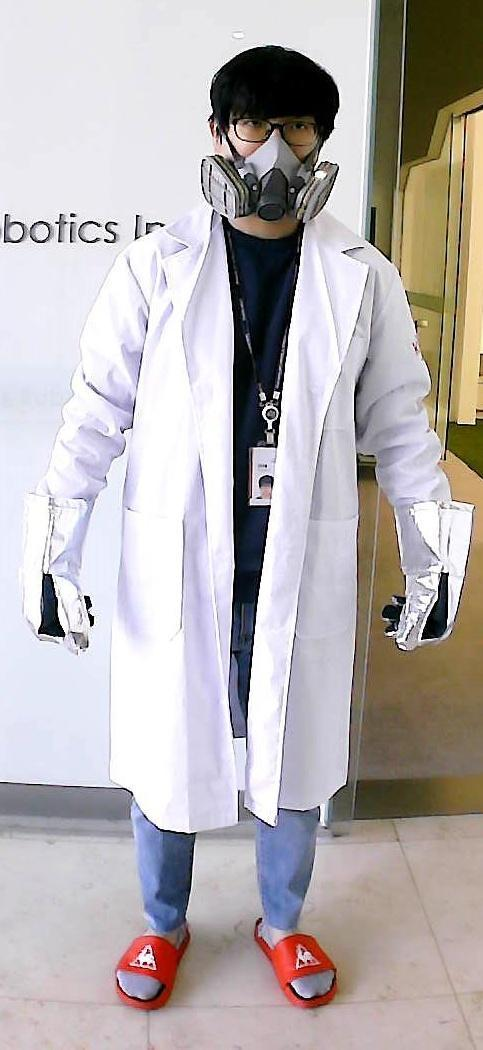lab_coat: (102, 224, 372, 815)
